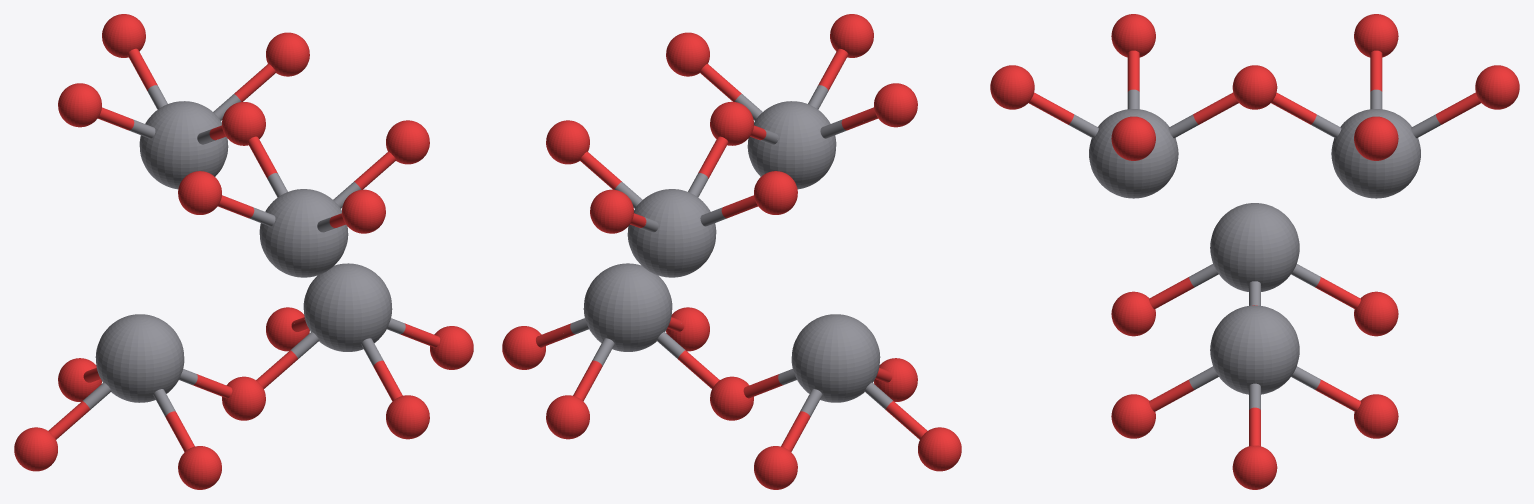
The model's file is lead(ii)oxide.dae.
3 views of the same model, side by side, from view 1: azimuth 30°, elevation 25°; view 2: azimuth 150°, elevation 25°; view 3: azimuth 270°, elevation 25° (orthographic).
Visible parts, largest first — view 1: Ball_Lead_001, Ball_Lead_002, Ball_Lead_003, Ball_Lead_004, Ball_Oxygen_001, Ball_Oxygen_002, Ball_Oxygen_011, Ball_Oxygen_004, Ball_Oxygen_005, Ball_Oxygen_013, Ball_Oxygen_006, Ball_Oxygen_008 (+6 smaller); view 2: Ball_Lead_001, Ball_Lead_002, Ball_Lead_004, Ball_Lead_003, Ball_Oxygen_003, Ball_Oxygen_011, Ball_Oxygen_014, Ball_Oxygen_004, Ball_Oxygen_007, Ball_Oxygen_002, Ball_Oxygen_008, Ball_Oxygen_006 (+6 smaller); view 3: Ball_Lead_002, Ball_Lead_001, Ball_Lead_003, Ball_Lead_004, Ball_Oxygen_012, Ball_Oxygen_013, Ball_Oxygen_014, Ball_Oxygen_006, Ball_Oxygen_008, Ball_Oxygen_010, Ball_Oxygen_001, Ball_Oxygen_003 (+4 smaller).
Part boxes in pixels (left/top/right/bottom): Ball_Lead_001: left=95, top=314, right=184, bottom=402; Ball_Lead_002: left=303, top=263, right=392, bottom=351; Ball_Lead_003: left=259, top=189, right=348, bottom=277; Ball_Lead_004: left=139, top=101, right=228, bottom=189; Ball_Oxygen_001: left=178, top=446, right=221, bottom=489; Ball_Oxygen_002: left=178, top=171, right=221, bottom=214; Ball_Oxygen_011: left=14, top=427, right=57, bottom=471; Ball_Oxygen_004: left=58, top=83, right=101, bottom=127; Ball_Oxygen_005: left=386, top=395, right=429, bottom=439; Ball_Oxygen_013: left=342, top=189, right=385, bottom=233; Ball_Oxygen_006: left=386, top=120, right=429, bottom=164; Ball_Oxygen_008: left=266, top=32, right=309, bottom=76; Ball_Lead_001: left=791, top=314, right=880, bottom=402; Ball_Lead_002: left=583, top=263, right=672, bottom=351; Ball_Lead_004: left=627, top=189, right=716, bottom=277; Ball_Lead_003: left=747, top=101, right=836, bottom=189; Ball_Oxygen_003: left=754, top=446, right=797, bottom=489; Ball_Oxygen_011: left=918, top=427, right=961, bottom=471; Ball_Oxygen_014: left=590, top=189, right=633, bottom=233; Ball_Oxygen_004: left=754, top=171, right=797, bottom=214; Ball_Oxygen_007: left=546, top=395, right=589, bottom=439; Ball_Oxygen_002: left=874, top=83, right=917, bottom=127; Ball_Oxygen_008: left=546, top=120, right=589, bottom=164; Ball_Oxygen_006: left=666, top=32, right=709, bottom=76; Ball_Lead_002: left=1210, top=305, right=1299, bottom=394; Ball_Lead_001: left=1210, top=203, right=1299, bottom=291; Ball_Lead_003: left=1089, top=109, right=1178, bottom=198; Ball_Lead_004: left=1331, top=109, right=1420, bottom=198; Ball_Oxygen_012: left=1232, top=445, right=1277, bottom=489; Ball_Oxygen_013: left=990, top=65, right=1034, bottom=109; Ball_Oxygen_014: left=1475, top=65, right=1519, bottom=109; Ball_Oxygen_006: left=1111, top=116, right=1155, bottom=160; Ball_Oxygen_008: left=1354, top=116, right=1398, bottom=160; Ball_Oxygen_010: left=1232, top=65, right=1277, bottom=109; Ball_Oxygen_001: left=1111, top=291, right=1155, bottom=336; Ball_Oxygen_003: left=1354, top=291, right=1398, bottom=336.
Size of the model in its own units: 8.68 by 8.68 by 5.75.
